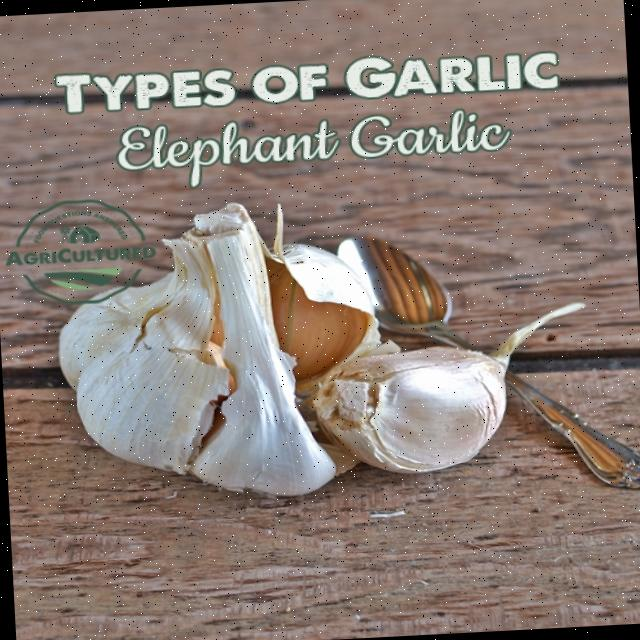garlic: (58, 202, 582, 494), (58, 202, 334, 493), (313, 302, 582, 471), (185, 202, 334, 493)
